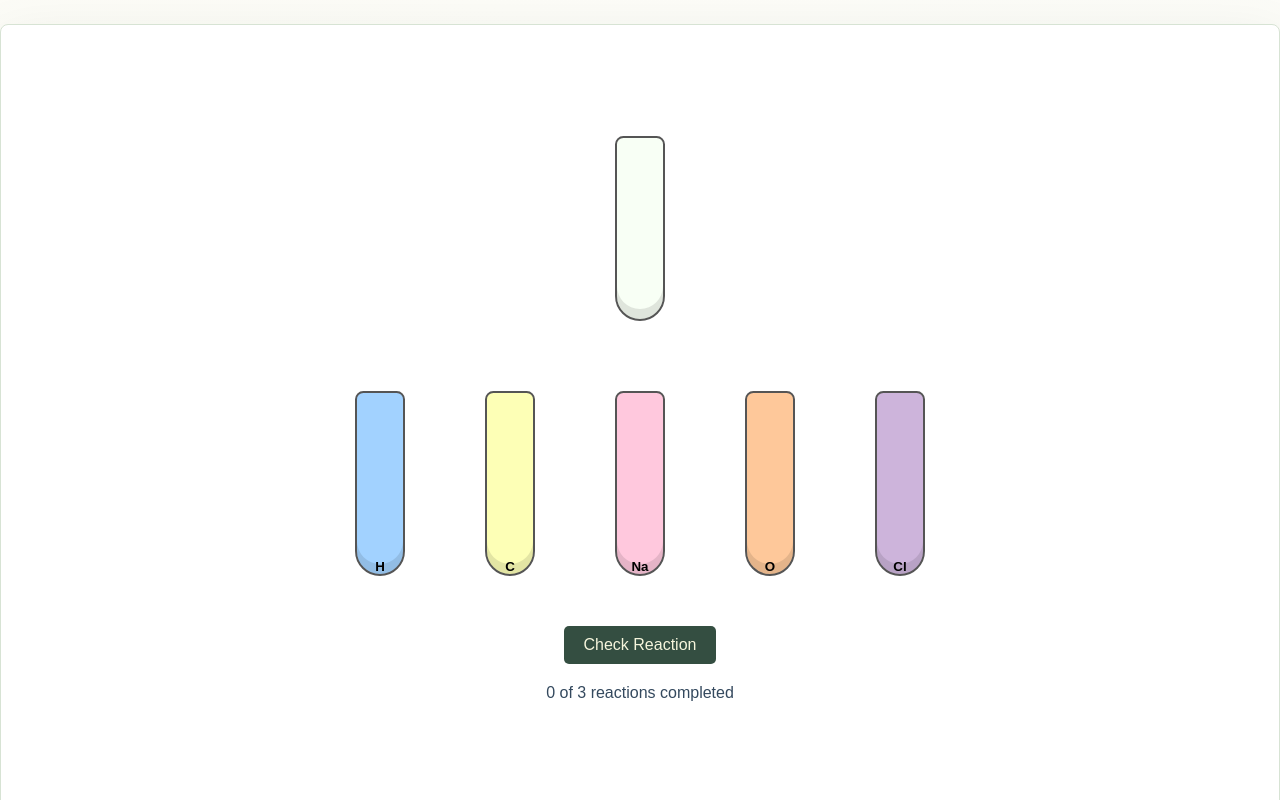
it: rejects an incorrect reaction and clears the selected tube
Click the button named "select h".
click(380, 484)  # box [355, 391, 405, 576]
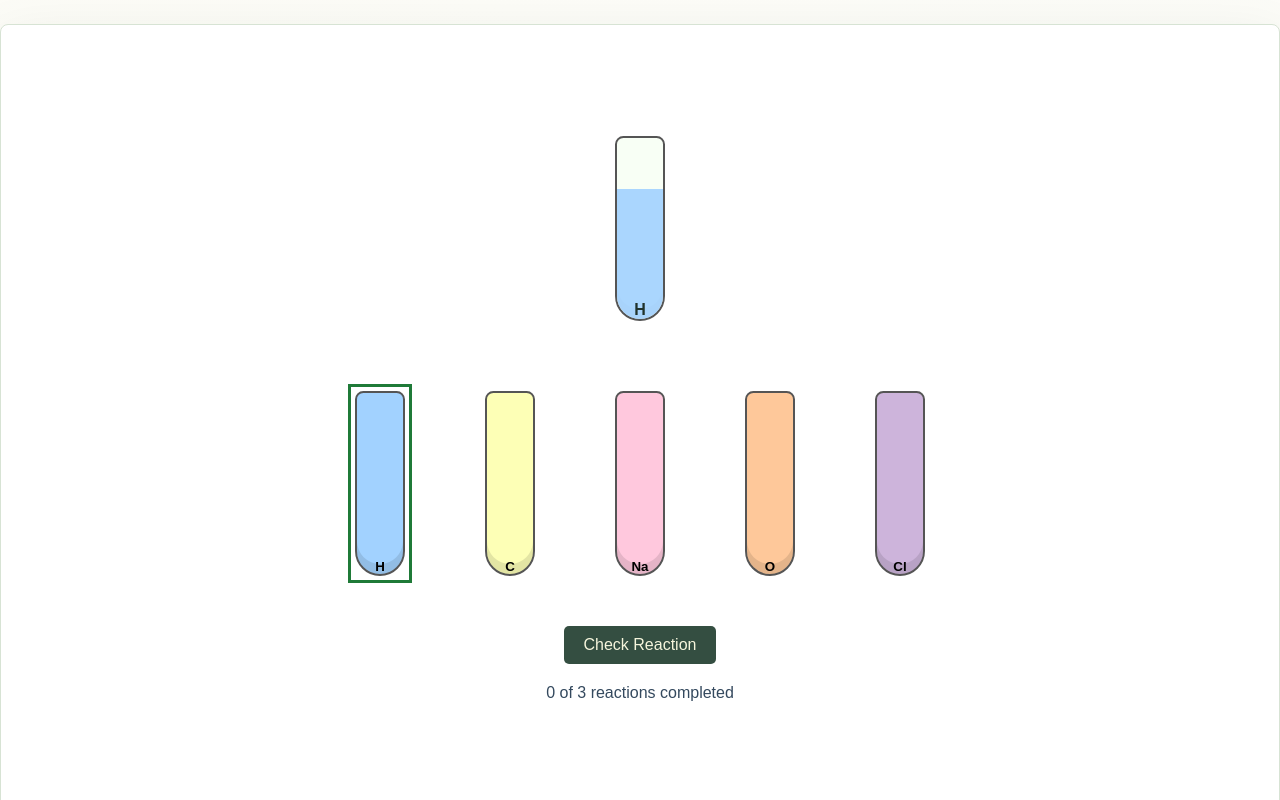
Click the button with aria-label "select na".
click(640, 484)  # box [615, 391, 665, 576]
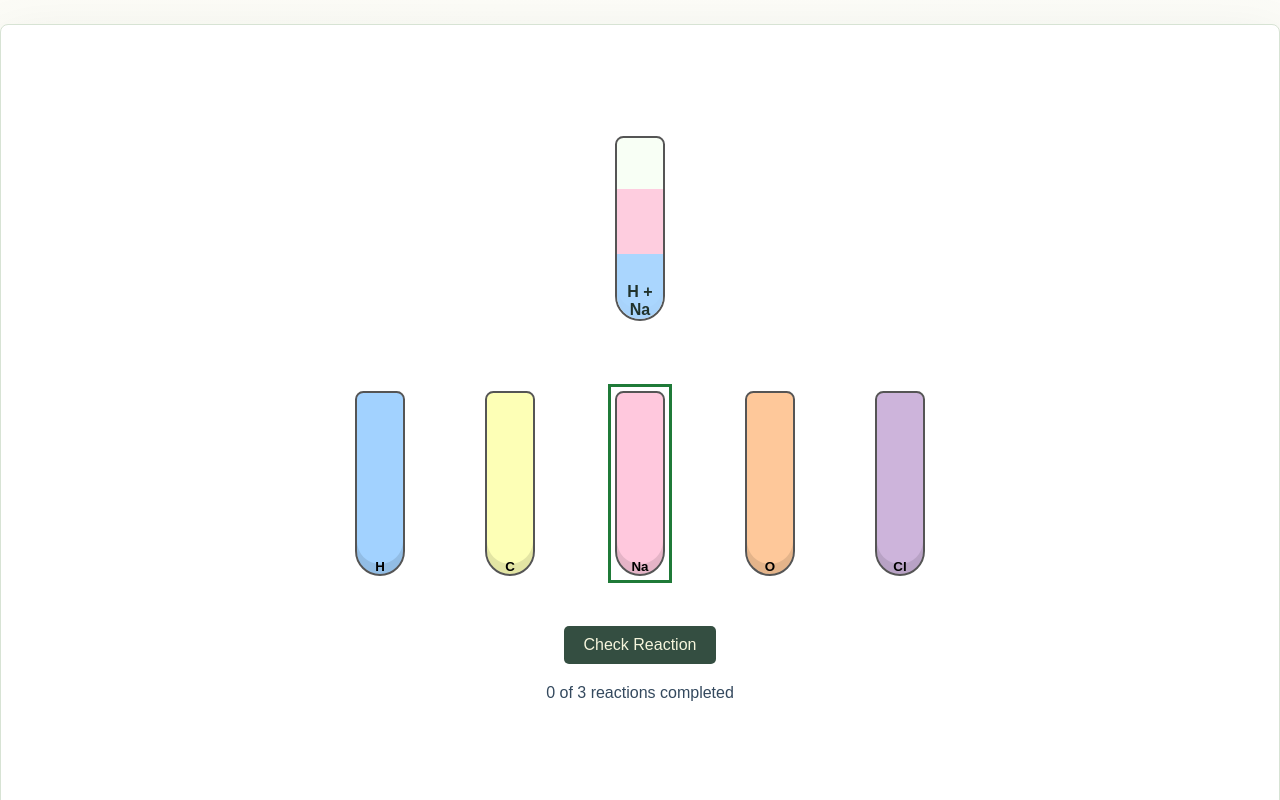
Click the button "Check Reaction".
click(640, 645)  # box [564, 626, 716, 664]
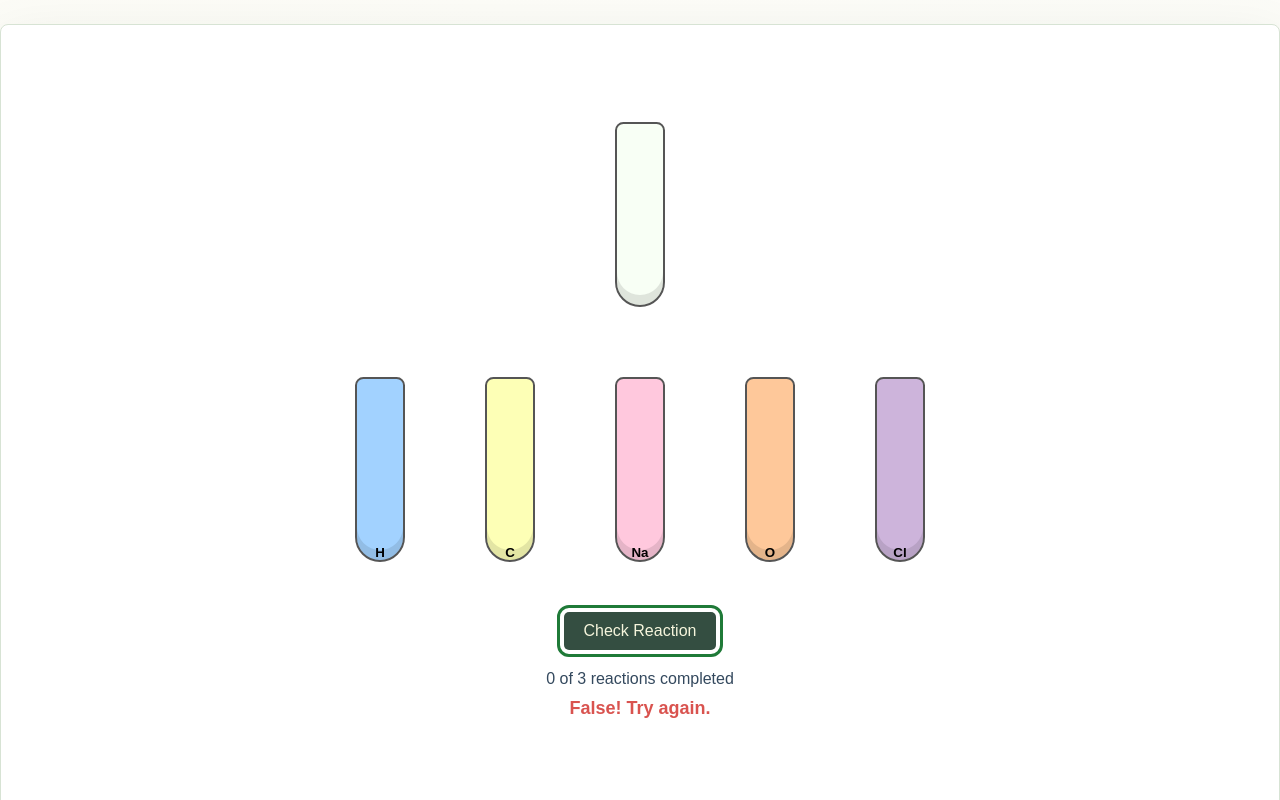
Expected: the text with test id "reaction-progress" reads "0 of 3 reactions completed", [546, 670, 734, 698]
Now the message reads "False! Try again.", box [570, 698, 711, 718]
